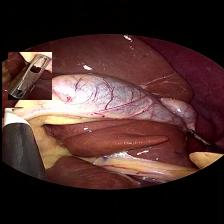Grasper: (7, 52, 51, 100), (181, 126, 211, 147)
Hook: (0, 104, 28, 132)
